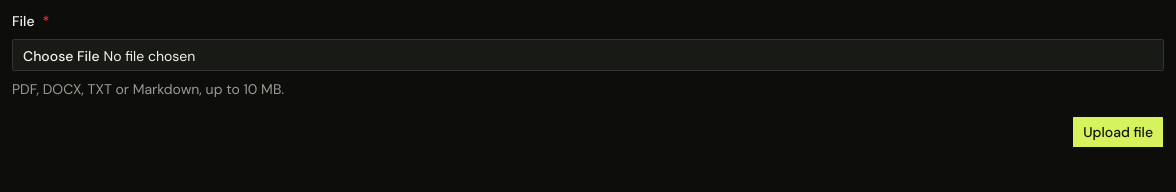
Test: FileIngestForm › requires a file
Click the button "Upload file" at point(1118, 132), box [1072,116,1164,148]
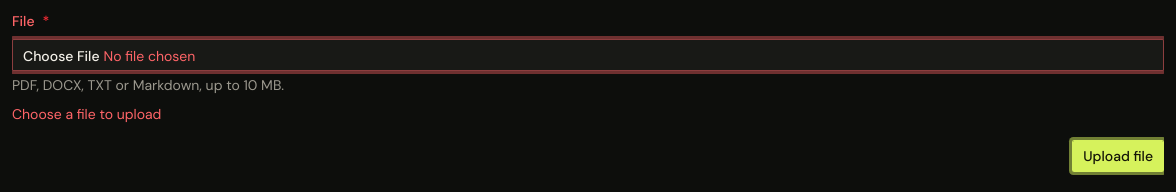
Expected: the text "Choose a file to upload" is shown, [12,105,161,123]
